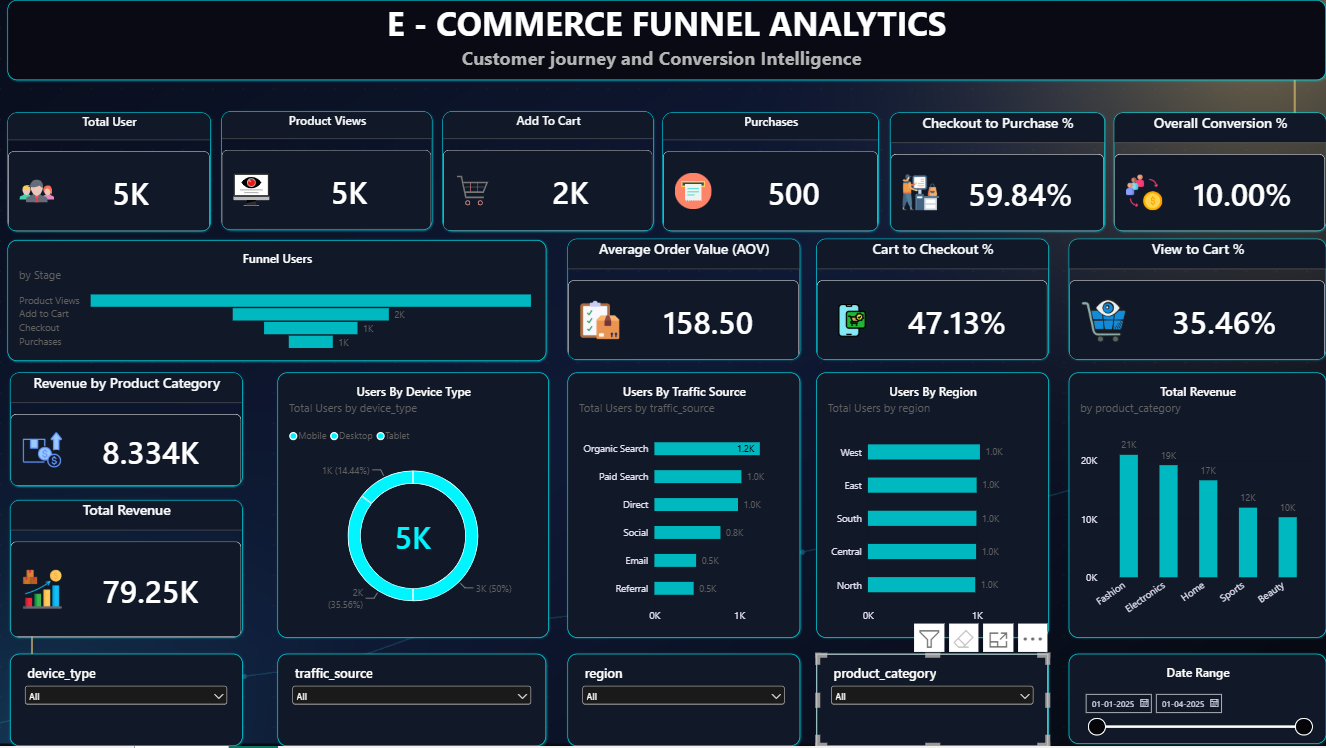

What the dashboard file says about the page in this screenshot:
{"tool":"powerbi","page":{"name":"Page 1","canvas":[1920,1080],"ordinal":0},"visuals":[{"type":"textbox","box":[10.9,0,1909.2,115.8],"z":0},{"type":"cardVisual","title":"Total Users","fields":{"Data":["ecommerce_user_events.Total Users"]},"box":[10,162,294,172],"z":1000},{"type":"cardVisual","title":"Add To Cart","fields":{"Data":["ecommerce_user_events.Add to Cart"]},"box":[640.6,161.1,305.8,173.7],"z":2000},{"type":"cardVisual","title":"Purchases","fields":{"Data":["ecommerce_user_events.Purchases"]},"box":[959.1,162.9,313.1,171.9],"z":3000},{"type":"cardVisual","title":"Product Views","fields":{"Data":["ecommerce_user_events.Product Views"]},"box":[320.3,161.1,305.8,171.9],"z":4000},{"type":"funnel","fields":{"Category":["Funnel Stages.Stage"],"Y":["Funnel Stages.Funnel Users"]},"box":[10.9,347.5,780,175.5],"z":5000},{"type":"cardVisual","title":"View to Cart %","fields":{"Data":["ecommerce_user_events.View to Cart %"]},"box":[1547.3,345.6,372.8,175.5],"z":6000},{"type":"cardVisual","title":"Checkout to Purchase %","fields":{"Data":["ecommerce_user_events.Cart to Checkout %"]},"box":[1288.5,162.9,311.3,171.9],"z":7000},{"type":"cardVisual","title":"Cart to Checkout %","fields":{"Data":["ecommerce_user_events.Checkout to Purchase %"]},"box":[1181.7,345.6,336.6,175.5],"z":8000},{"type":"cardVisual","title":"Overall Conversion %","fields":{"Data":["ecommerce_user_events.Overall Conversion %"]},"box":[1612.4,162.9,307.6,171.9],"z":9000},{"type":"cardVisual","title":"Total Revenue","fields":{"Data":["ecommerce_user_events.Total Revenue"]},"box":[14.5,723.9,336.6,199.1],"z":10000},{"type":"cardVisual","title":"Average Order Value (AOV)","fields":{"Data":["Avg(ecommerce_user_events.order_value)"]},"box":[821.6,345.6,336.6,175.5],"z":11000},{"type":"cardVisual","title":"Revenue by Product Category","fields":{"Data":["CountNonNull(ecommerce_user_events.product_category)"]},"box":[14.5,539.3,336.6,164.7],"z":12000},{"type":"clusteredColumnChart","fields":{"Category":["ecommerce_user_events.product_category"],"Y":["ecommerce_user_events.Total Revenue"]},"box":[1547.3,539.3,372.8,383.6],"z":13000},{"type":"donutChart","title":"Users By Device Type","fields":{"Category":["ecommerce_user_events.device_type"],"Y":["ecommerce_user_events.Total Users"]},"box":[401.7,539.3,392.7,383.6],"z":14000},{"type":"clusteredBarChart","title":"Users By Traffic Source","fields":{"Category":["ecommerce_user_events.traffic_source"],"Y":["ecommerce_user_events.Total Users"]},"box":[821.6,539.3,336.6,383.6],"z":15000},{"type":"clusteredBarChart","title":"Users By Region","fields":{"Category":["ecommerce_user_events.region"],"Y":["ecommerce_user_events.Total Users"]},"box":[1181.7,539.3,336.6,383.6],"z":16000},{"type":"slicer","fields":{"Values":["ecommerce_user_events.device_type"]},"box":[14.5,946.5,336.6,133.9],"z":16001},{"type":"slicer","fields":{"Values":["ecommerce_user_events.traffic_source"]},"box":[401.7,946.5,389.1,133.9],"z":16002},{"type":"slicer","fields":{"Values":["ecommerce_user_events.region"]},"box":[821.6,946.5,336.6,133.9],"z":16003},{"type":"slicer","fields":{"Values":["ecommerce_user_events.product_category"]},"box":[1181.7,946.5,336.6,133.9],"z":16004},{"type":"slicer","title":"Date Range","fields":{"Values":["ecommerce_user_events.event_time"]},"box":[1547.3,946.5,372.8,130.3],"z":16005}]}

Visuals, with their boxes in screenshot pixels (x1, y1, x2, y2), scaled from the page's 1920x1080 canvas onto the 1326x748 screenshot:
textbox: (x1=8, y1=0, x2=1325, y2=80)
"Total Users" cardVisual: (x1=7, y1=112, x2=210, y2=231)
"Add To Cart" cardVisual: (x1=442, y1=112, x2=654, y2=232)
"Purchases" cardVisual: (x1=662, y1=113, x2=879, y2=232)
"Product Views" cardVisual: (x1=221, y1=112, x2=432, y2=231)
funnel - Funnel Stages.Stage x Funnel Stages.Funnel Users: (x1=8, y1=241, x2=546, y2=362)
"View to Cart %" cardVisual: (x1=1069, y1=239, x2=1325, y2=361)
"Checkout to Purchase %" cardVisual: (x1=890, y1=113, x2=1105, y2=232)
"Cart to Checkout %" cardVisual: (x1=816, y1=239, x2=1049, y2=361)
"Overall Conversion %" cardVisual: (x1=1114, y1=113, x2=1325, y2=232)
"Total Revenue" cardVisual: (x1=10, y1=501, x2=242, y2=639)
"Average Order Value (AOV)" cardVisual: (x1=567, y1=239, x2=800, y2=361)
"Revenue by Product Category" cardVisual: (x1=10, y1=374, x2=242, y2=488)
clusteredColumnChart - ecommerce_user_events.product_category x ecommerce_user_events.Total Revenue: (x1=1069, y1=374, x2=1325, y2=639)
"Users By Device Type" donutChart: (x1=277, y1=374, x2=549, y2=639)
"Users By Traffic Source" clusteredBarChart: (x1=567, y1=374, x2=800, y2=639)
"Users By Region" clusteredBarChart: (x1=816, y1=374, x2=1049, y2=639)
slicer - ecommerce_user_events.device_type: (x1=10, y1=656, x2=242, y2=747)
slicer - ecommerce_user_events.traffic_source: (x1=277, y1=656, x2=546, y2=747)
slicer - ecommerce_user_events.region: (x1=567, y1=656, x2=800, y2=747)
slicer - ecommerce_user_events.product_category: (x1=816, y1=656, x2=1049, y2=747)
"Date Range" slicer: (x1=1069, y1=656, x2=1325, y2=746)
